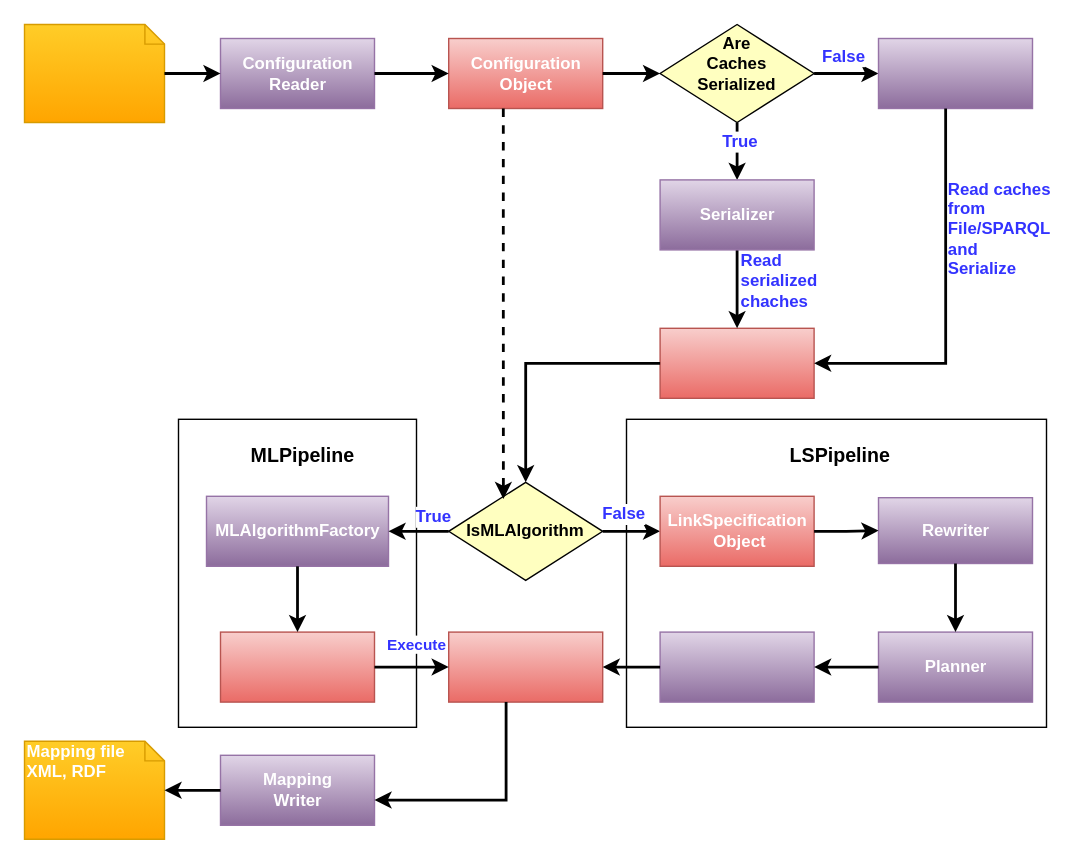
This 1075x864 diagram has some shape labels left out. The centre of each missing label's shape, as x and y in pixels:
Algorithm Object: pixel 296 666
Caches Objects: pixel 736 362
Config file XML, RDF: pixel 93 72
ExecutionEngine: pixel 736 666
Mapping Object: pixel 525 666
QueryModule: pixel 954 72
